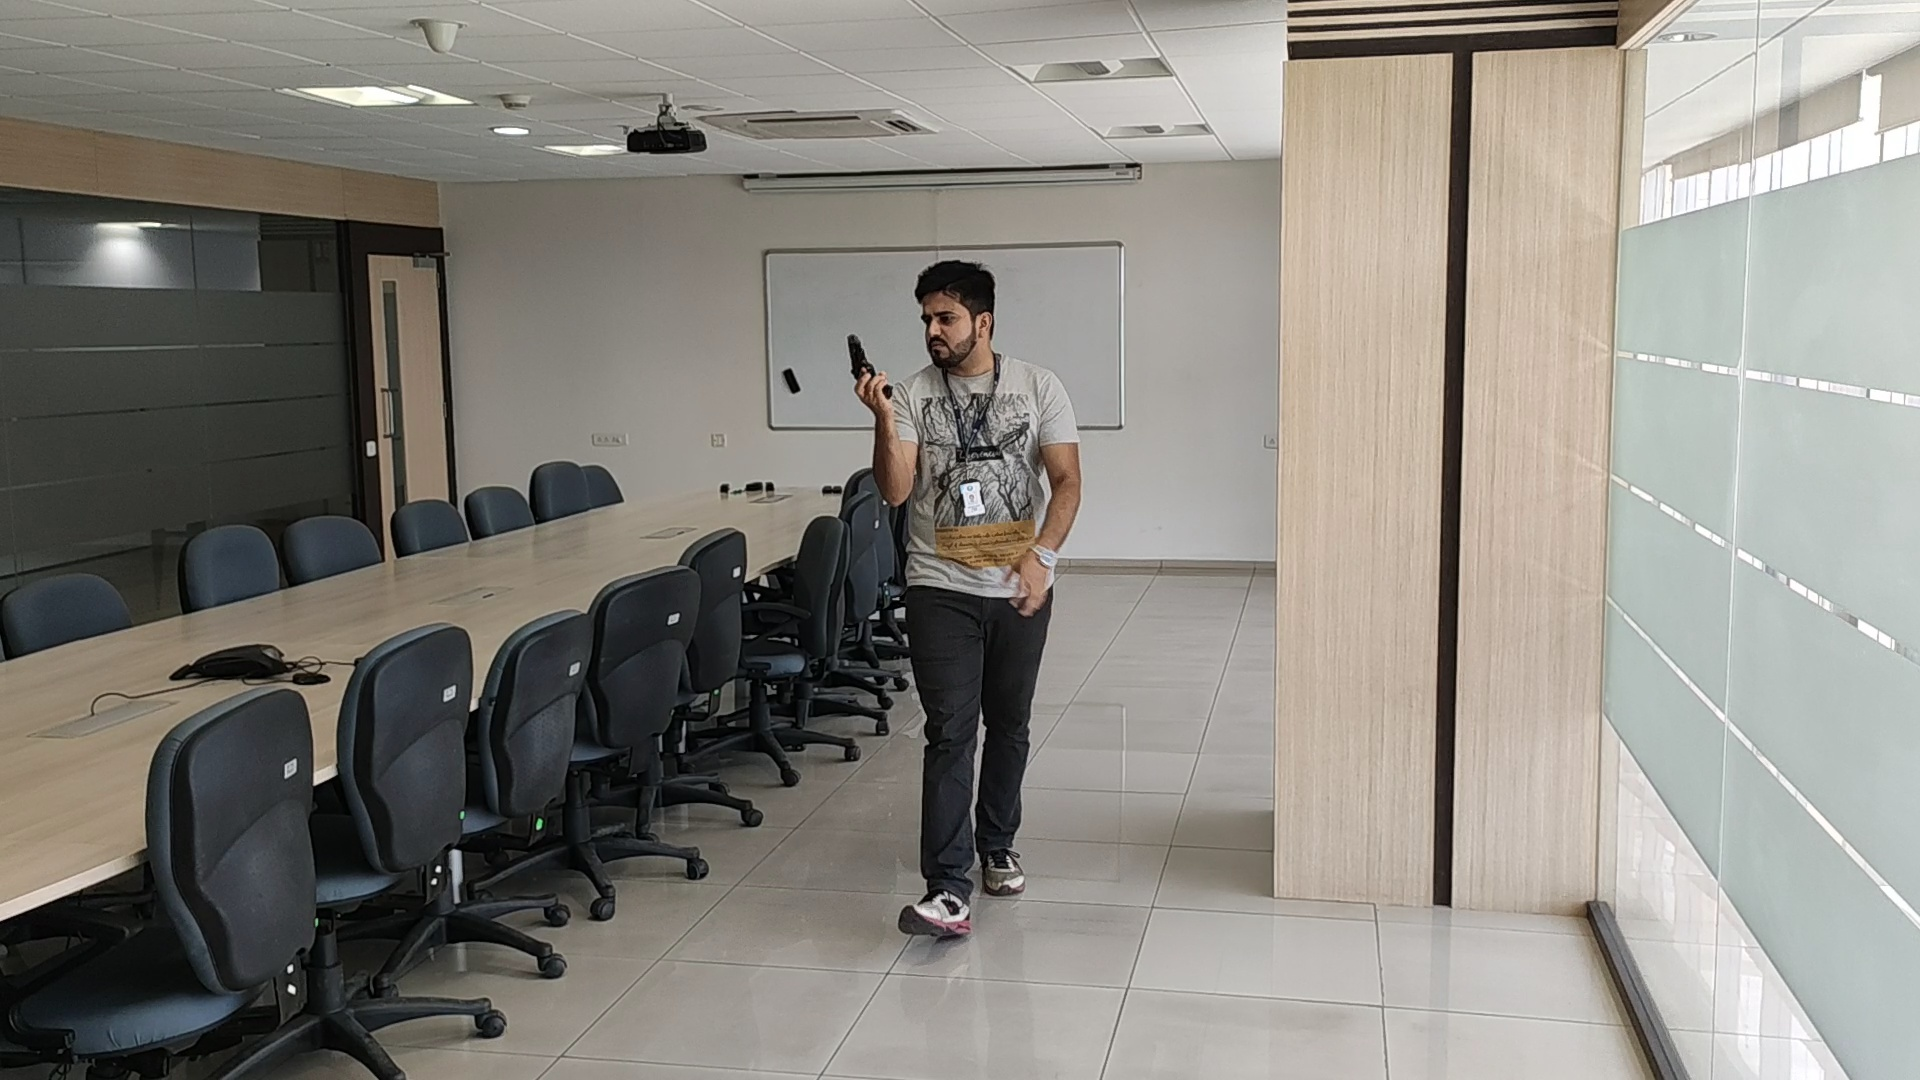gun: (847, 334, 876, 372)
